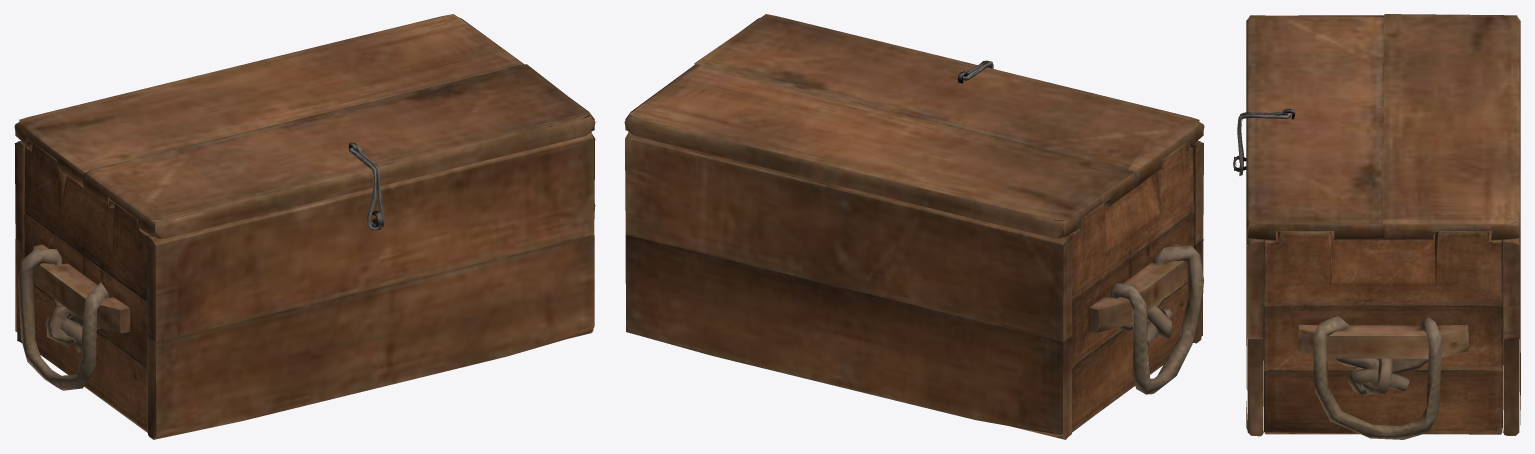
File: ph_wooden_crate_01.glb
The picture shows the model from 3 angles, left to right: view 1: azimuth 30°, elevation 25°; view 2: azimuth 150°, elevation 25°; view 3: azimuth 270°, elevation 25°; orthographic projection. The views are drawn at different scales.
Visible parts, largest first — view 1: wooden_crate_01_lid; view 2: wooden_crate_01_lid; view 3: wooden_crate_01_lid.
Boxes of the visible parts, x1,y1,x2,y2 form: wooden_crate_01_lid: [14, 14, 595, 439]; wooden_crate_01_lid: [624, 14, 1204, 439]; wooden_crate_01_lid: [1233, 14, 1520, 439].
Size of the model in its own units: 0.8242 by 0.3485 by 0.4076.
Materials: 1 (1 with a texture image).
